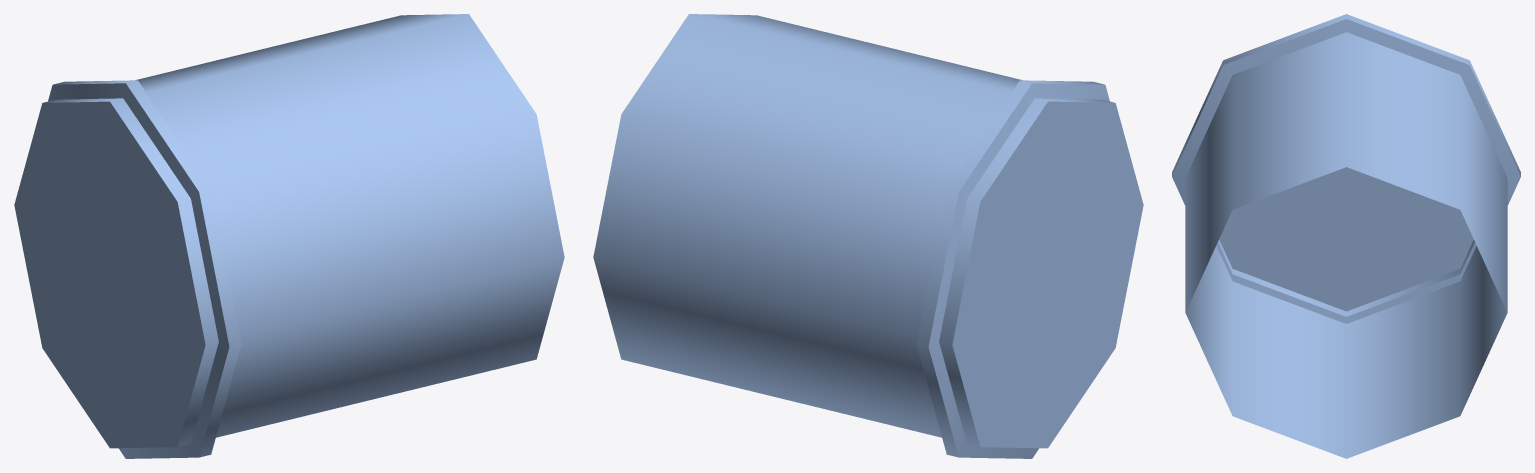
Rendered from PipeSmall_ConnectorWall.fbx.
The picture shows the model from 3 angles, left to right: view 1: azimuth 30°, elevation 25°; view 2: azimuth 150°, elevation 25°; view 3: azimuth 270°, elevation 25°; orthographic projection. The views are drawn at different scales.
Parts seen in each view (by area): view 1: PipeSmall_ConnectorWall.001; view 2: PipeSmall_ConnectorWall.001; view 3: PipeSmall_ConnectorWall.001.
Part boxes in pixels (x1,y1,x2,y2): PipeSmall_ConnectorWall.001: [14, 14, 564, 458]; PipeSmall_ConnectorWall.001: [593, 14, 1143, 458]; PipeSmall_ConnectorWall.001: [1172, 14, 1520, 458].
Size of the model in its own units: 0.1167 by 0.1167 by 0.1167.
